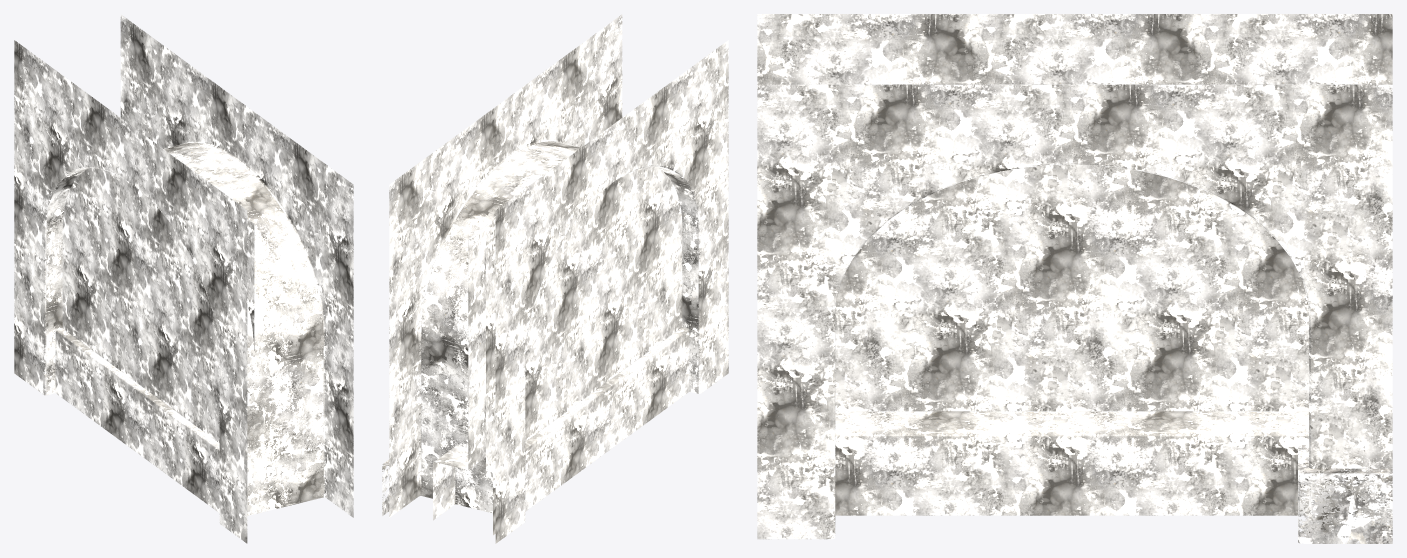
The picture shows the model from 3 angles, left to right: view 1: azimuth 30°, elevation 25°; view 2: azimuth 150°, elevation 25°; view 3: azimuth 270°, elevation 25°; orthographic projection. The views are drawn at different scales.
Parts seen in each view (by area): view 1: SM_wall_B_window_02_LOD0; view 2: SM_wall_B_window_02_LOD0; view 3: SM_wall_B_window_02_LOD0.
Boxes of the visible parts, box(x1,y1,x2,y2) form: SM_wall_B_window_02_LOD0: box(14, 14, 353, 543); SM_wall_B_window_02_LOD0: box(382, 14, 728, 543); SM_wall_B_window_02_LOD0: box(757, 14, 1392, 543).
Size of the model in its own units: 160 by 570 by 450.
2 materials, 2 textured.
